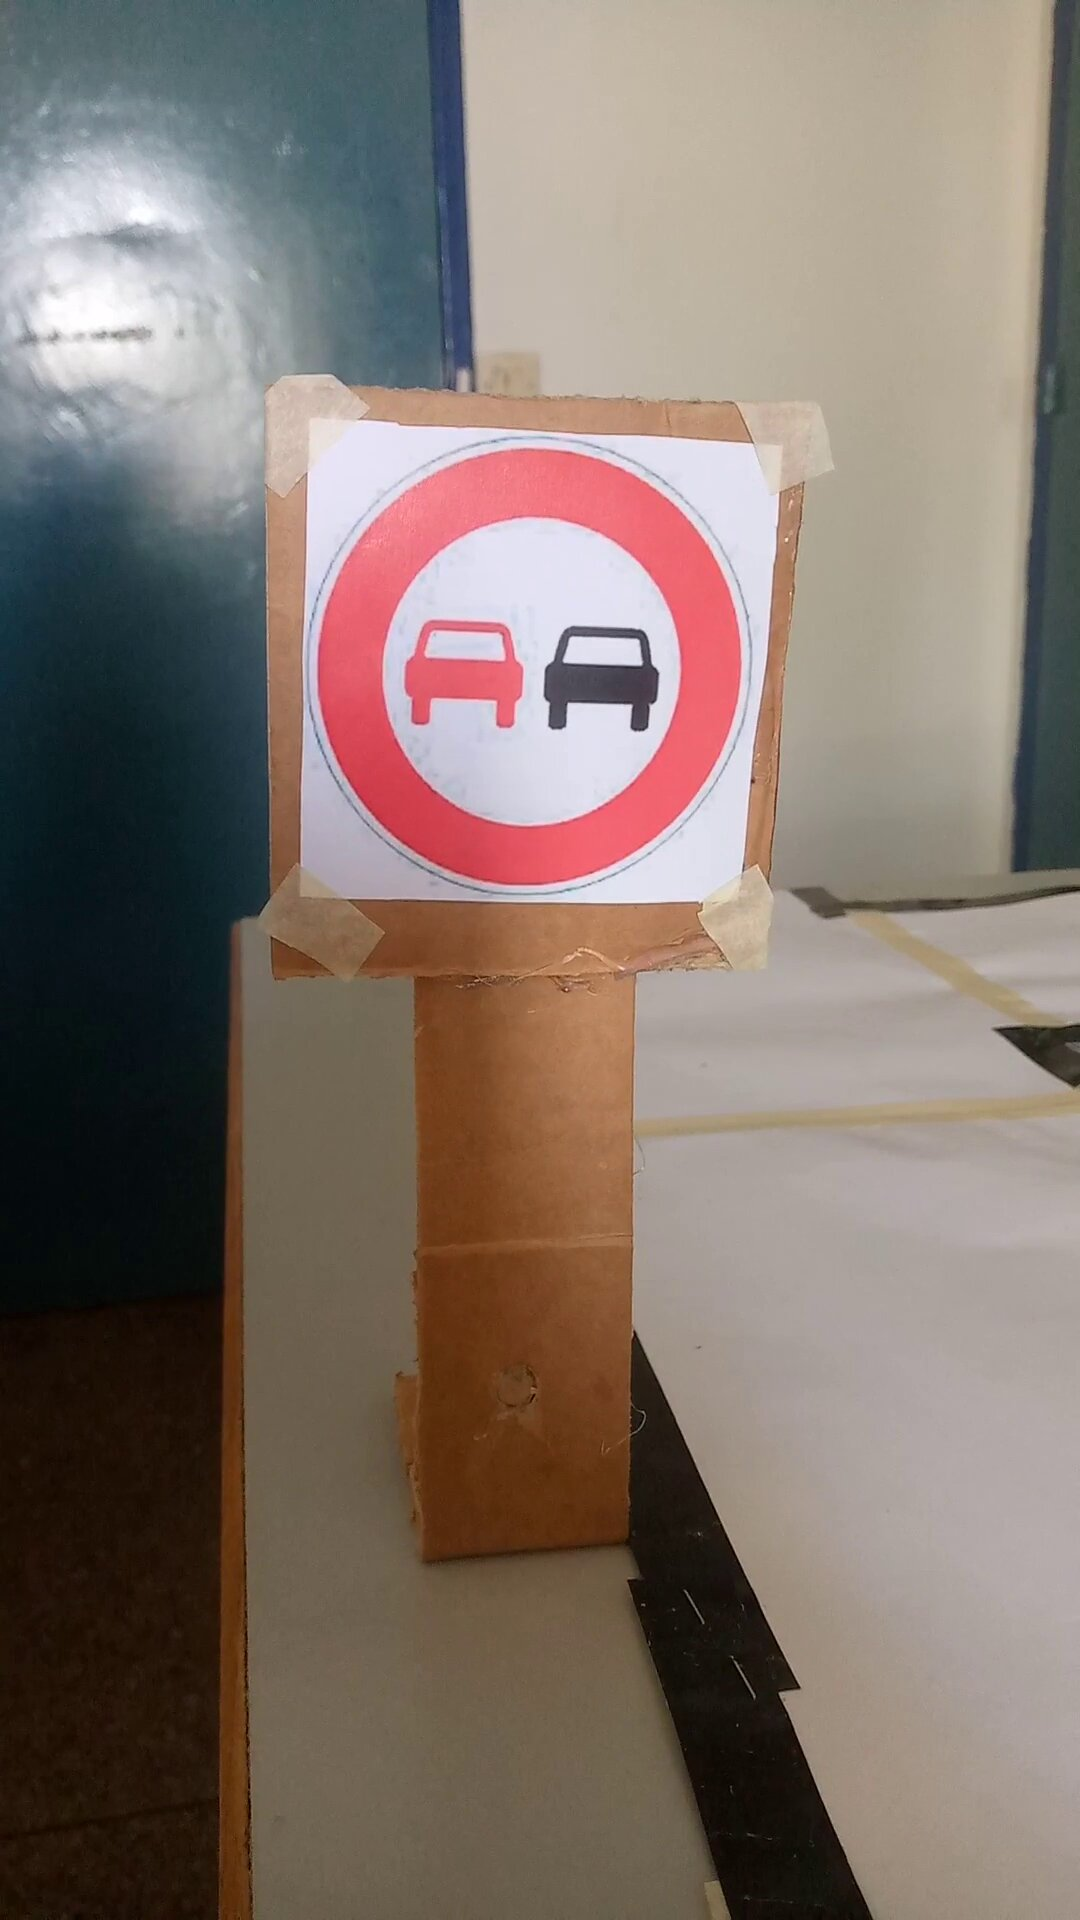panel100: (315, 411, 756, 909)
